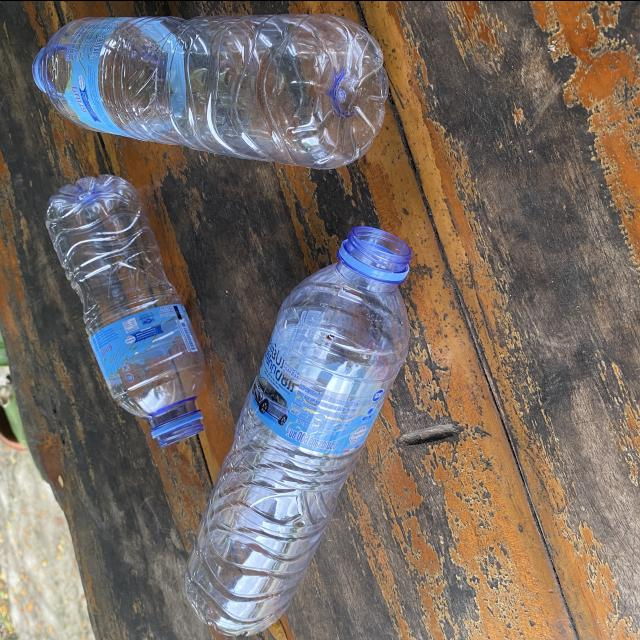plastik: (185, 227, 410, 635), (35, 13, 388, 168), (46, 173, 204, 445)
